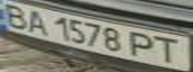1: (48, 13, 72, 42)
5: (66, 17, 87, 45)
7: (81, 20, 106, 50)
8: (103, 25, 127, 54)
A: (24, 7, 51, 35)
B: (0, 1, 33, 29)
P: (127, 29, 160, 60)
T: (151, 34, 187, 64)
